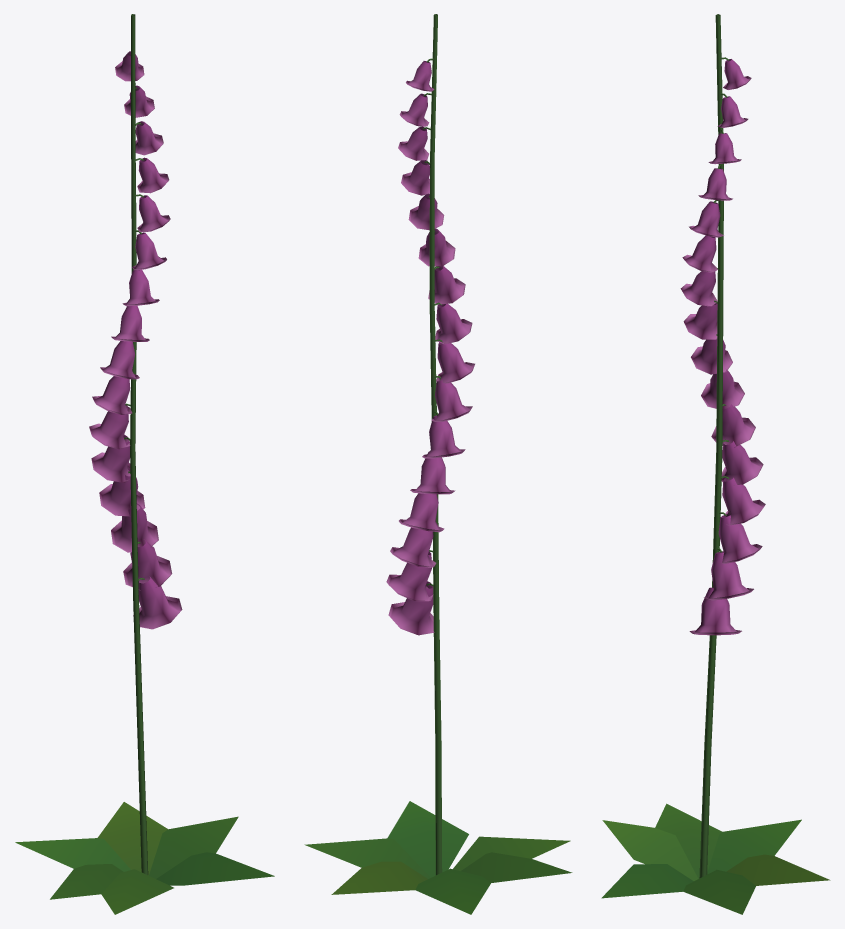
File: flower-foxglove-a.lod0.glb
3 renders of one model, left to right at view 1: azimuth 30°, elevation 25°; view 2: azimuth 150°, elevation 25°; view 3: azimuth 270°, elevation 25°, orthographic.
Visible parts, largest first — view 1: flower-foxglove-a.lod0; view 2: flower-foxglove-a.lod0; view 3: flower-foxglove-a.lod0.
Boxes of the visible parts, box(x1,y1,x2,y2) form: flower-foxglove-a.lod0: box(15, 14, 274, 914); flower-foxglove-a.lod0: box(304, 14, 572, 914); flower-foxglove-a.lod0: box(601, 14, 830, 914).
Size of the model in its own units: 0.3093 by 1.13 by 0.2697.
